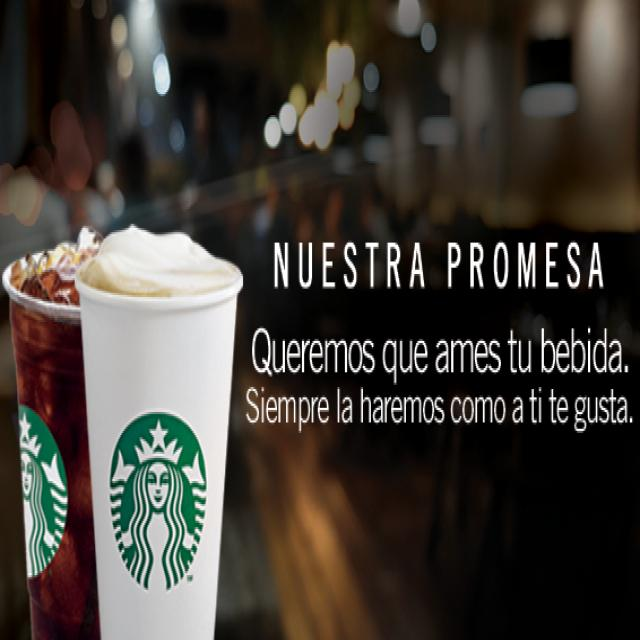starbucks: (102, 408, 216, 598), (16, 398, 69, 593)
